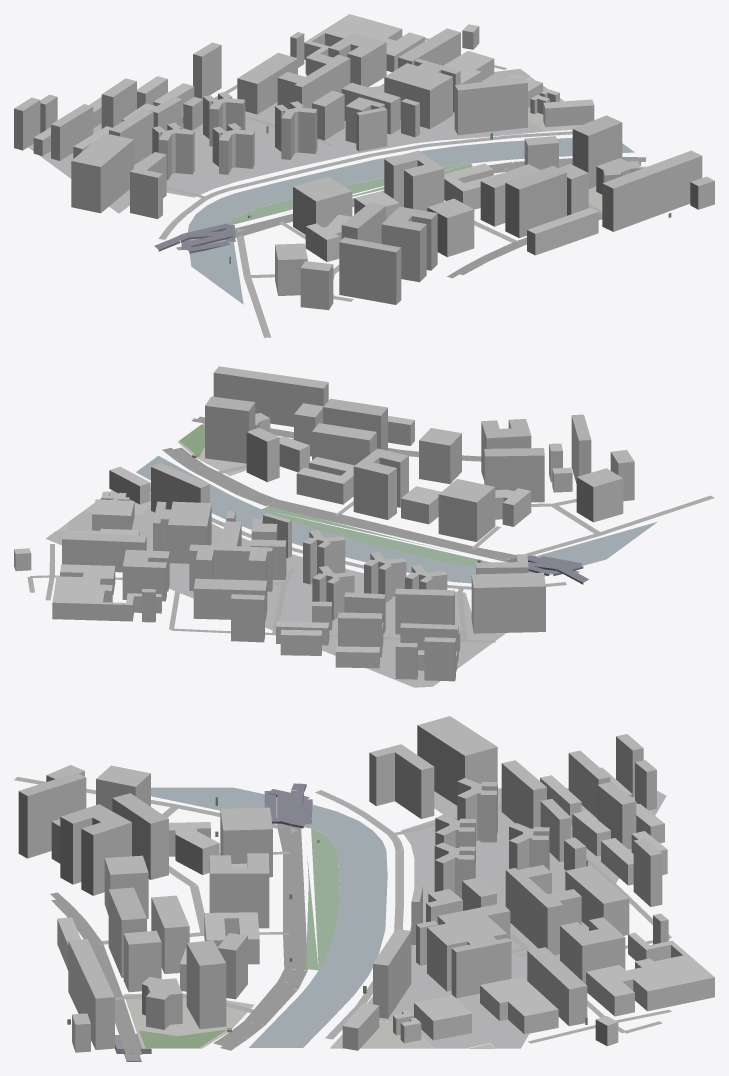
3 views of the same model, one above another, from view 1: azimuth 30°, elevation 25°; view 2: azimuth 150°, elevation 25°; view 3: azimuth 270°, elevation 25° (orthographic). The views are drawn at different scales.
Bounding box in the file's own units: 546 × 68.9 × 569.
